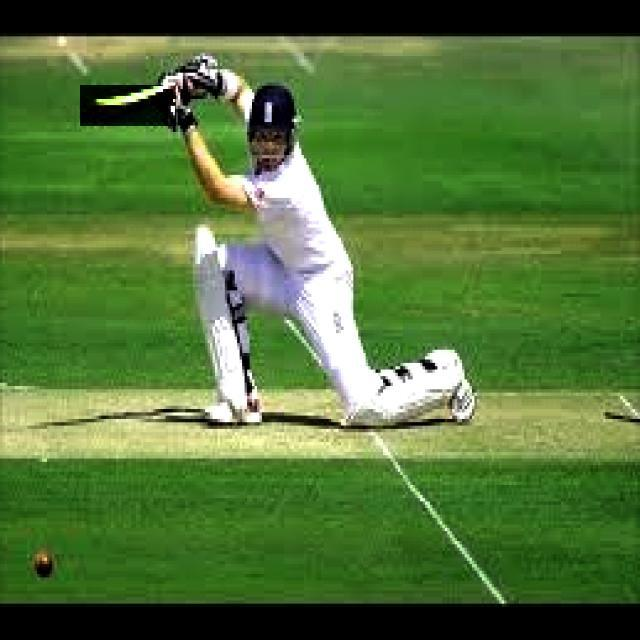bat: (81, 84, 176, 126)
toe: (84, 94, 109, 119)
